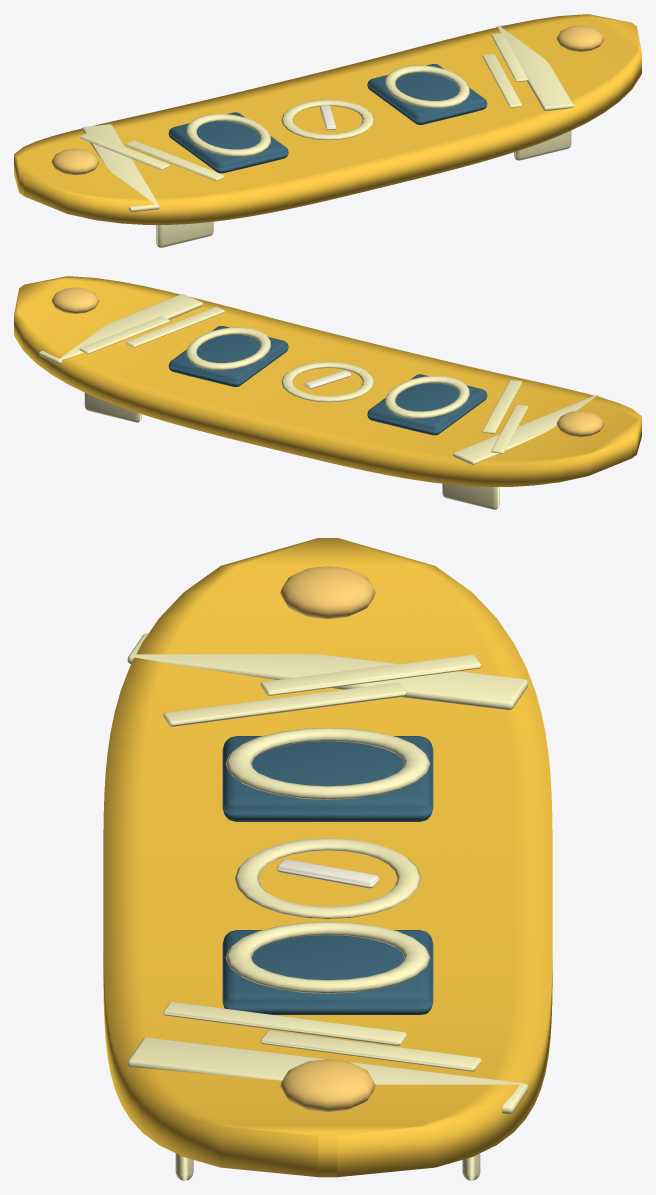
The model's file is board-sunset.glb.
3 views of the same model, one above another, from view 1: azimuth 30°, elevation 25°; view 2: azimuth 150°, elevation 25°; view 3: azimuth 270°, elevation 25° (orthographic). The views are drawn at different scales.
Parts seen in each view (by area): view 1: Board_sunset; view 2: Board_sunset; view 3: Board_sunset.
Part boxes in pixels (x1,y1,x2,y2): Board_sunset: [14, 14, 641, 247]; Board_sunset: [14, 276, 641, 509]; Board_sunset: [103, 538, 552, 1180].
Bounding box in the file's own units: 2.96 × 0.37 × 0.94.
